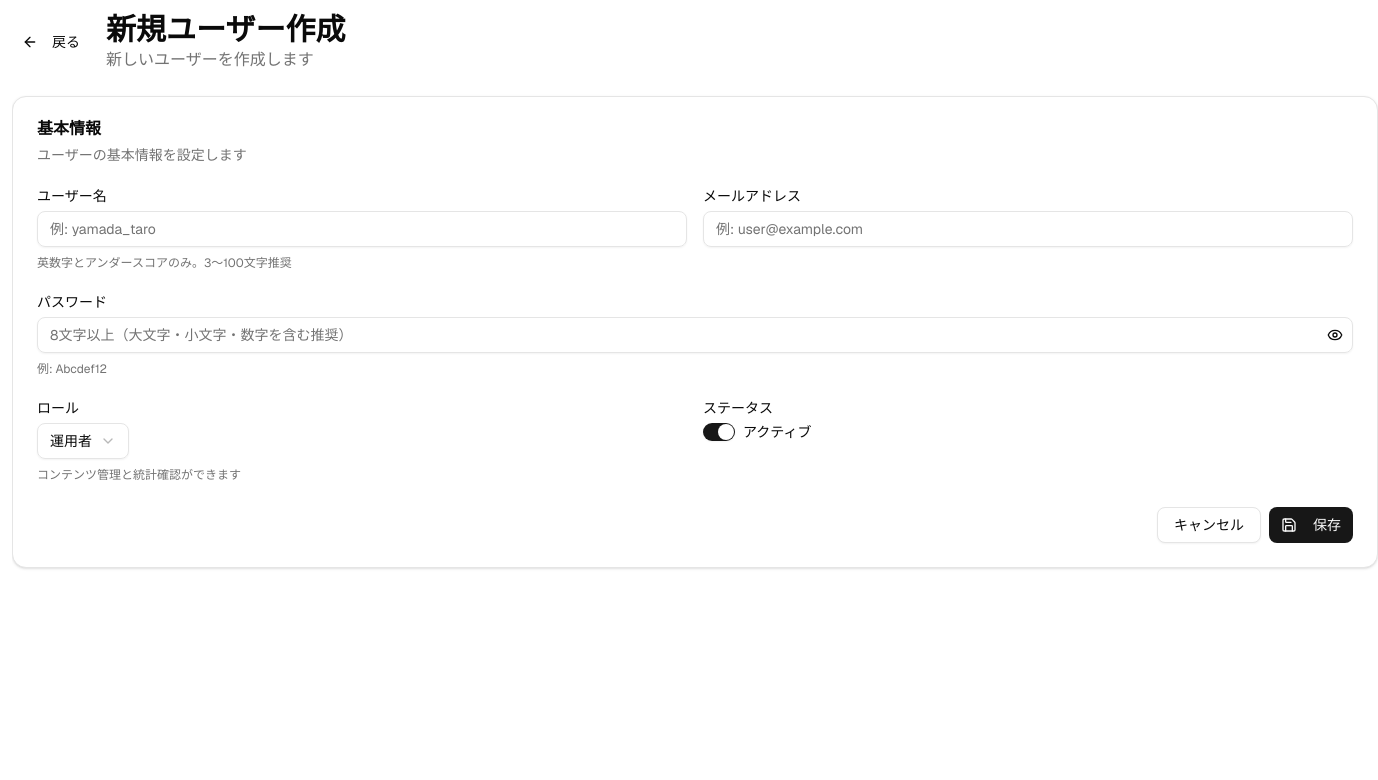
it: UserForm › エラーハンドリング › ユーザー保存エラー
#  フォームに入力
Type "test@example.com" into the field labelled "メールアドレス" at (1028,229), box [703,211,1353,247]
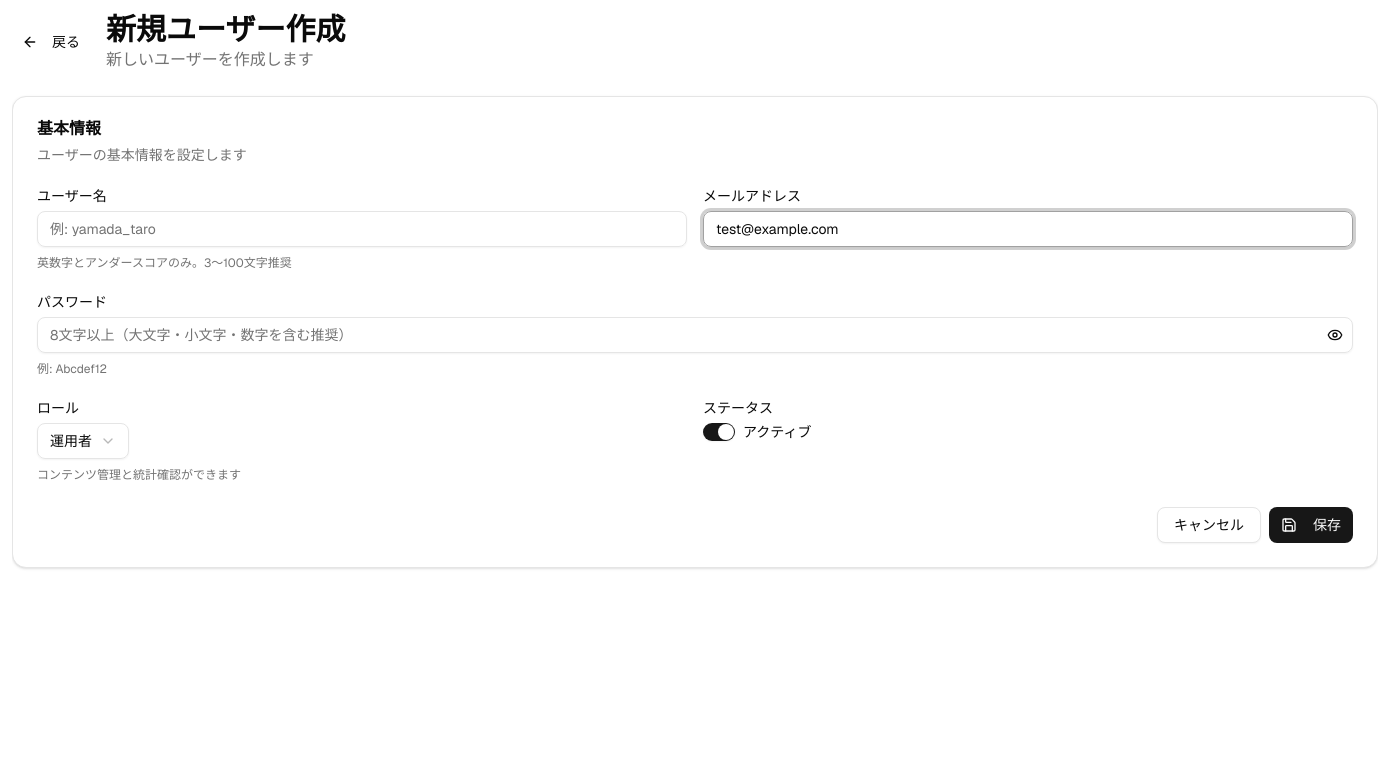
Type "testuser" into the field labelled "ユーザー名" at (362,229), box [37,211,687,247]
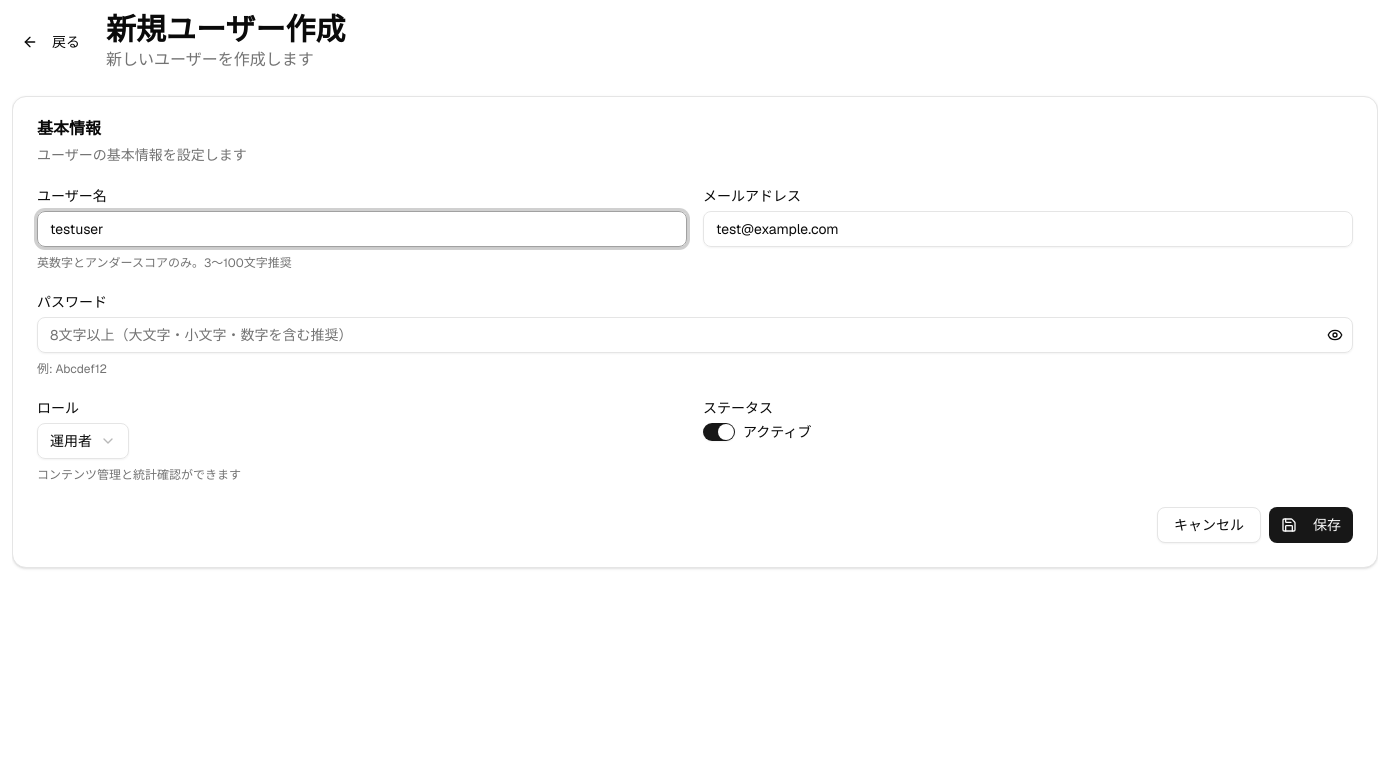
Type "TestPassword1" into the password field labelled "パスワード" at (695,335), box [37,317,1353,353]
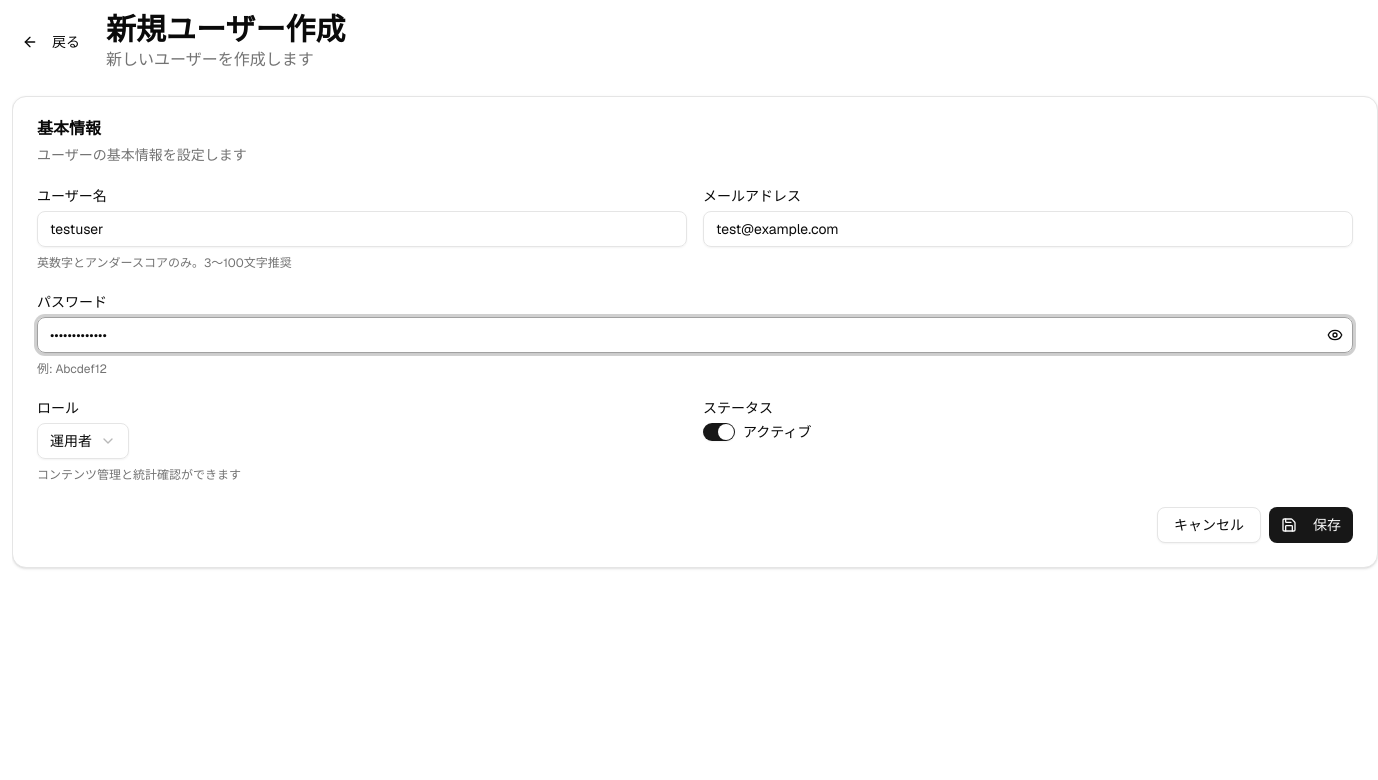
# 保存ボタンをクリック
Click the button "保存" at (1311,525), box [1269,507,1353,543]
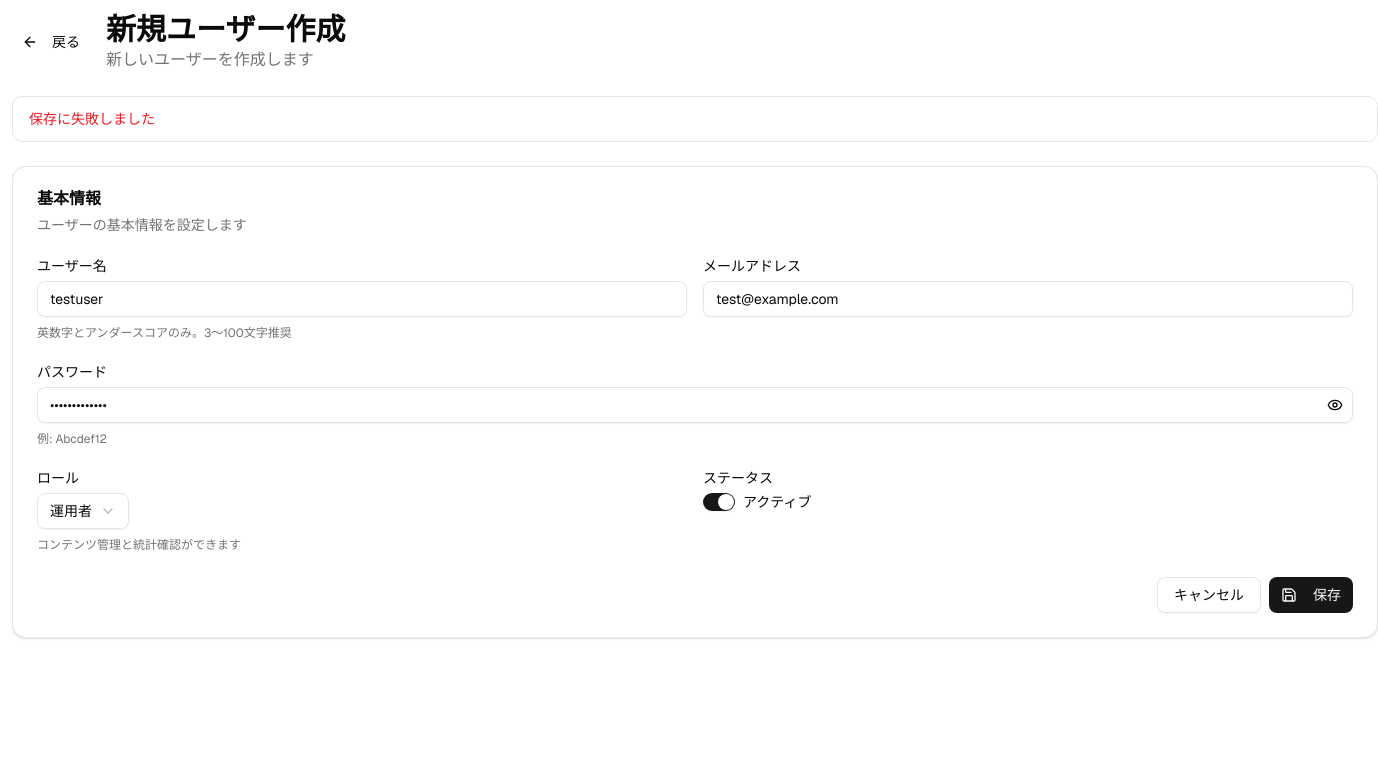
Now the text "保存に失敗しました" is shown, box [29,110,155,128]
